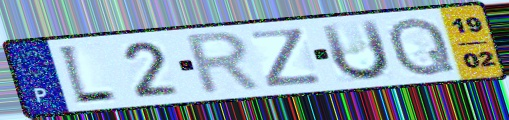2: (120, 40, 183, 100)
L: (55, 43, 121, 108)
Q: (385, 15, 459, 79)
R: (184, 29, 267, 98)
U: (317, 17, 394, 84)
Z: (247, 26, 327, 90)
